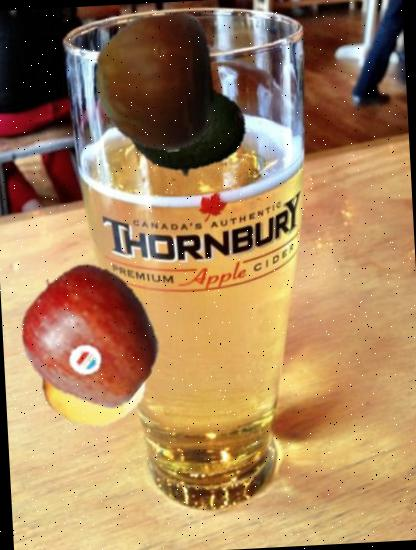Apple: (18, 262, 166, 410)
Avocado: (122, 66, 250, 193)
Nut: (82, 10, 228, 157)
Quince: (37, 315, 153, 431)
